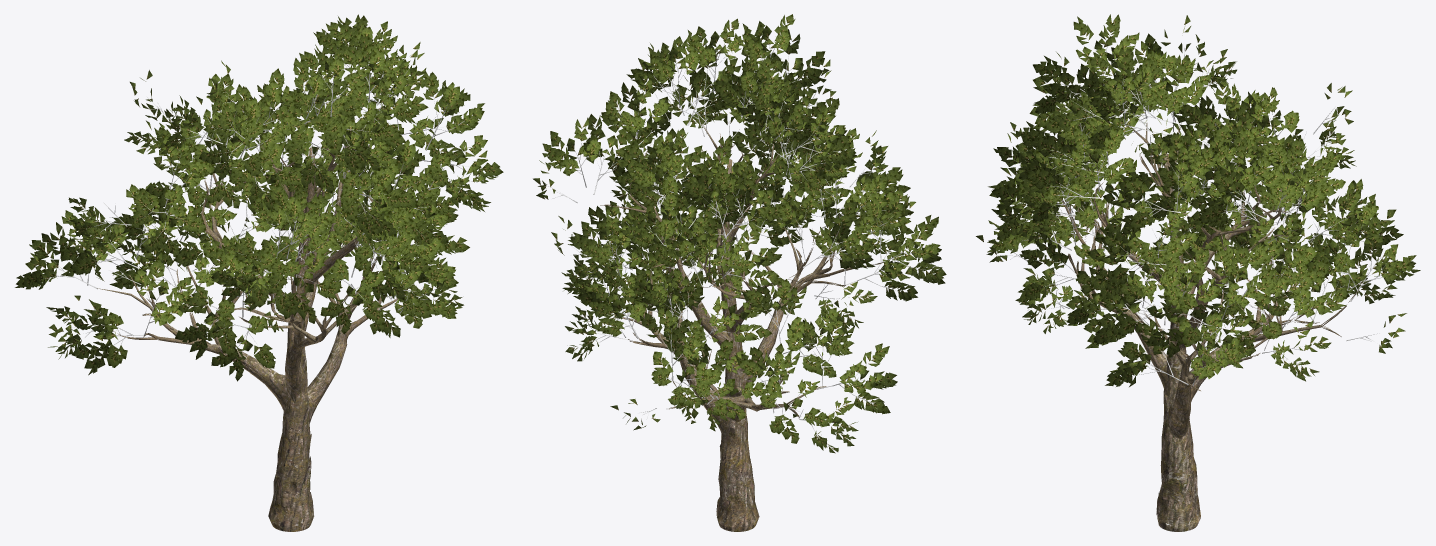
File: tree_broad_a.glb
The picture shows the model from 3 angles, left to right: view 1: azimuth 30°, elevation 25°; view 2: azimuth 150°, elevation 25°; view 3: azimuth 270°, elevation 25°; orthographic projection. The views are drawn at different scales.
Visible parts, largest first — view 1: Object_2; view 2: Object_2; view 3: Object_2.
Boxes of the visible parts, x1,y1,x2,y2 form: Object_2: (15, 14, 503, 531); Object_2: (533, 14, 946, 531); Object_2: (976, 14, 1420, 531).
Bounding box in the file's own units: 7.14 × 9.5 × 7.63.
Materials: 3 (2 with a texture image).
